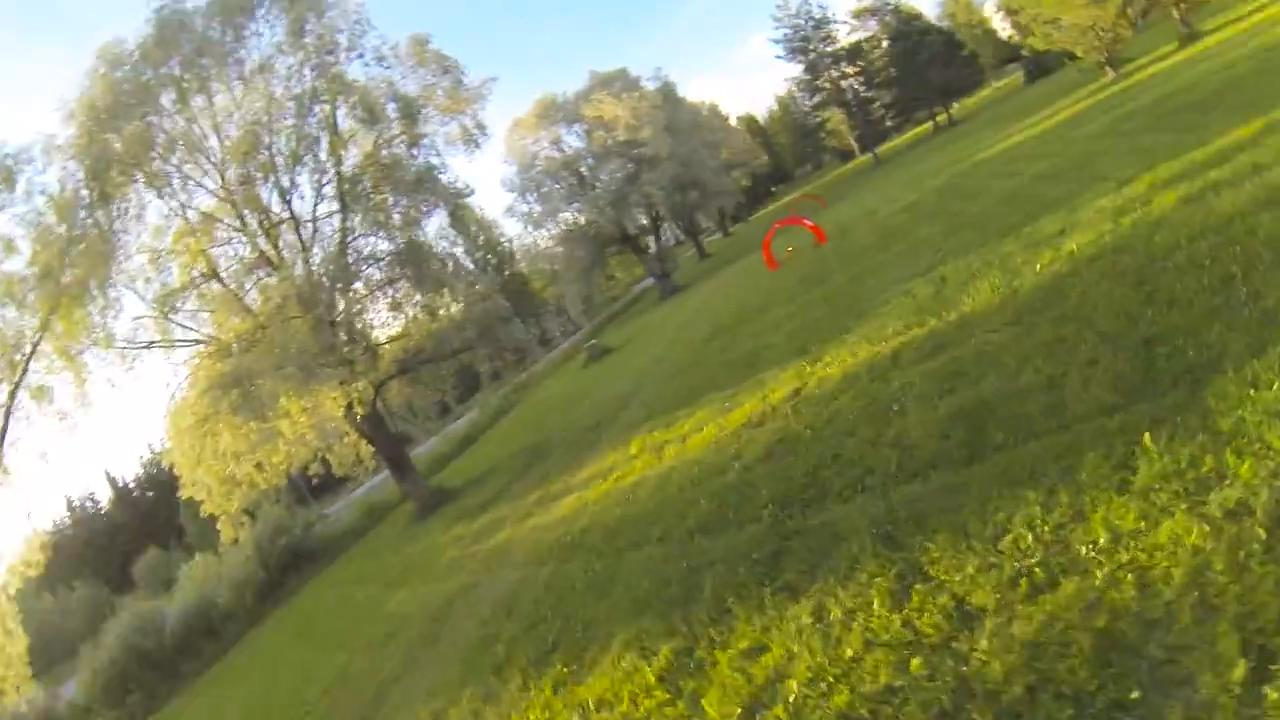gate: (759, 214, 828, 270)
